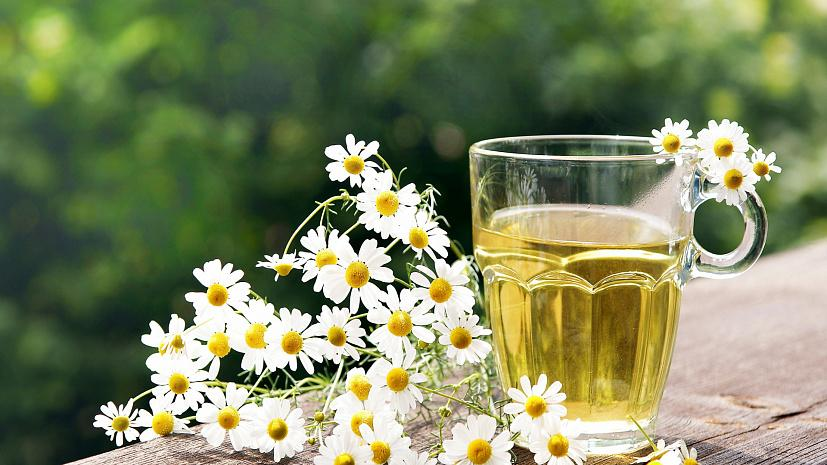chamomile: (67, 124, 575, 465), (637, 106, 821, 215)
